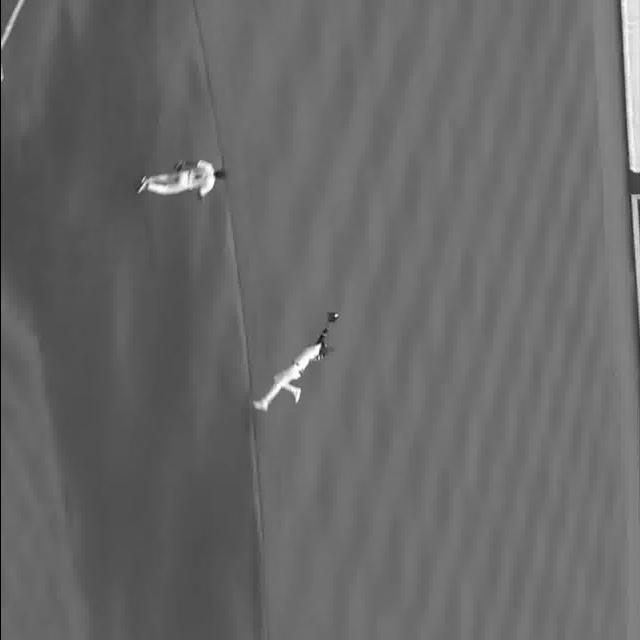baseball: (334, 314, 336, 318)
baseball_glove: (324, 307, 342, 327), (173, 160, 186, 176)
shoe: (290, 385, 302, 404), (251, 402, 269, 414), (136, 177, 146, 195)
